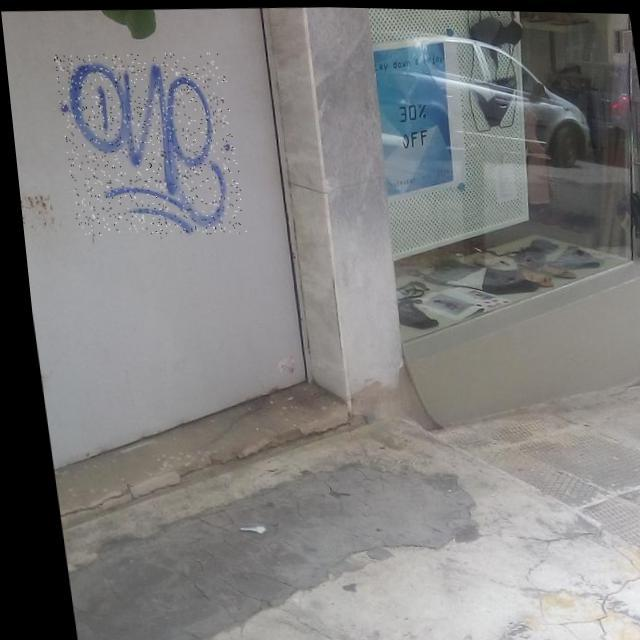-: (51, 48, 242, 238)
